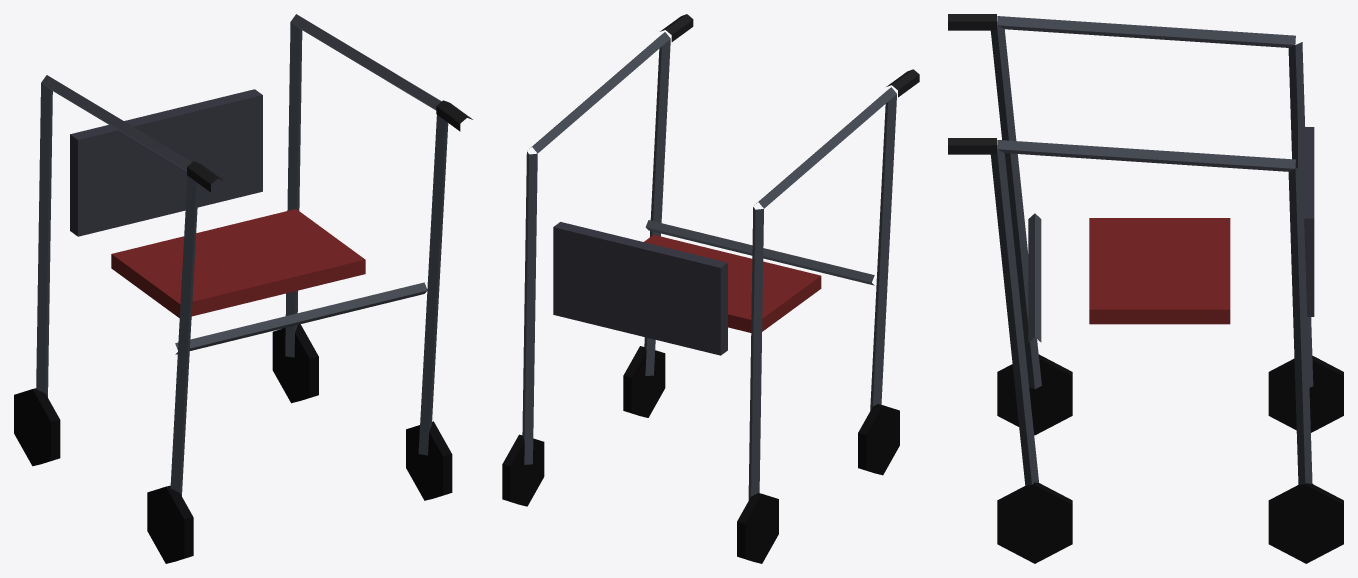
File: walker.glb
3 views of the same model, side by side, from view 1: azimuth 30°, elevation 25°; view 2: azimuth 150°, elevation 25°; view 3: azimuth 270°, elevation 25° (orthographic). The views are drawn at different scales.
Parts seen in each view (by area): view 1: walker; view 2: walker; view 3: walker.
Part boxes in pixels (x1,y1,x2,y2): walker: (14, 14, 472, 563); walker: (502, 14, 919, 563); walker: (948, 14, 1343, 563).
Size of the model in its own units: 0.58 by 0.857 by 0.7293.
